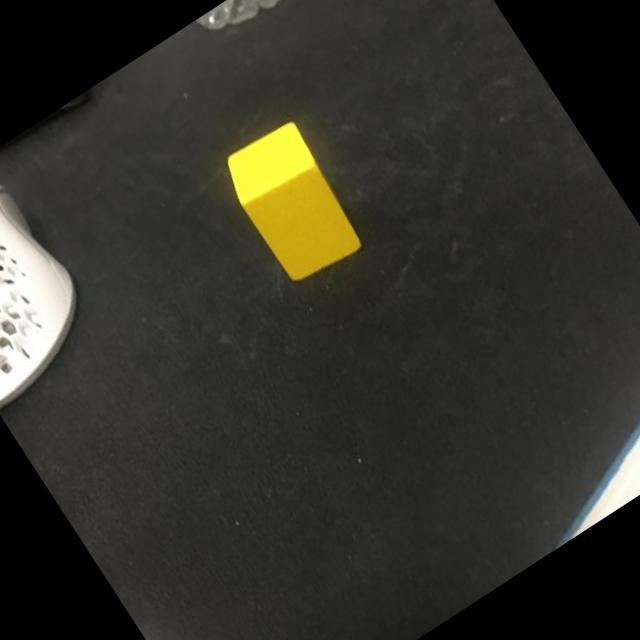yellow: (216, 116, 372, 290)
